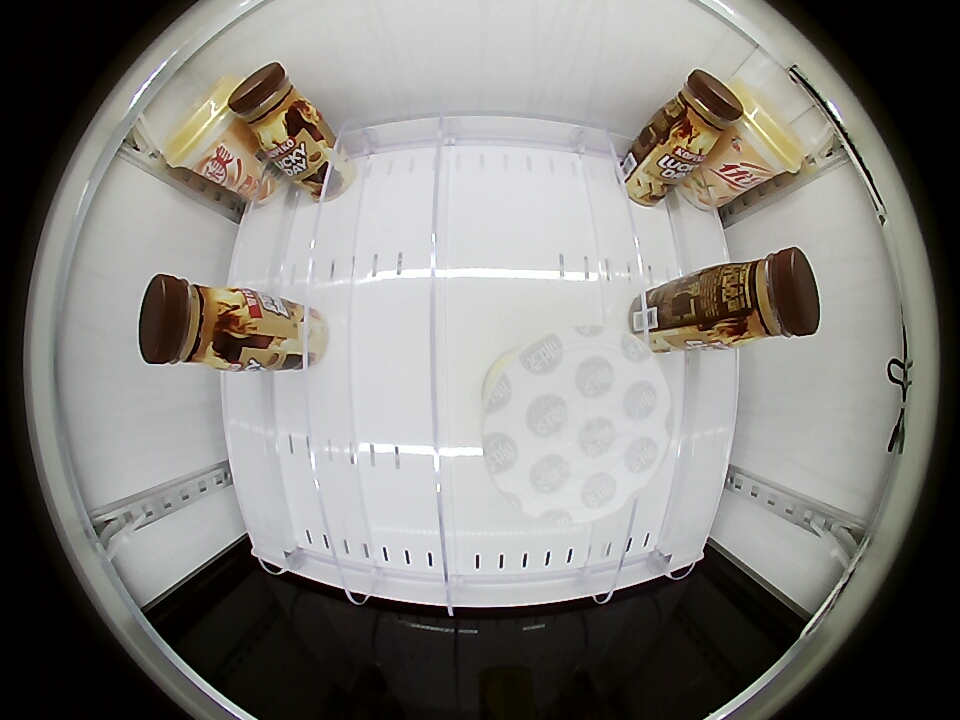kebike: (481, 325, 672, 522)
lujikafei: (710, 248, 821, 345), (138, 274, 247, 370), (662, 69, 744, 153), (228, 62, 310, 146)
youlemei: (164, 76, 239, 175), (729, 91, 804, 184)
